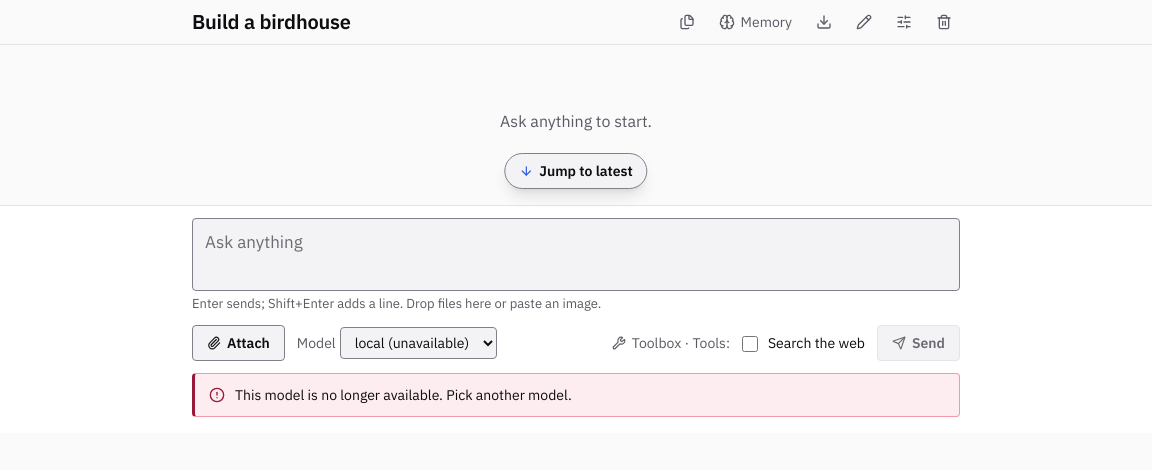
it: Jump to latest › floats over the thread, so showing it does not resize the pane, and takes the reader down
(page scrolled)
Step 1. Click the button "Jump to latest" → click(576, 171), box left=504, top=153, right=648, bottom=189
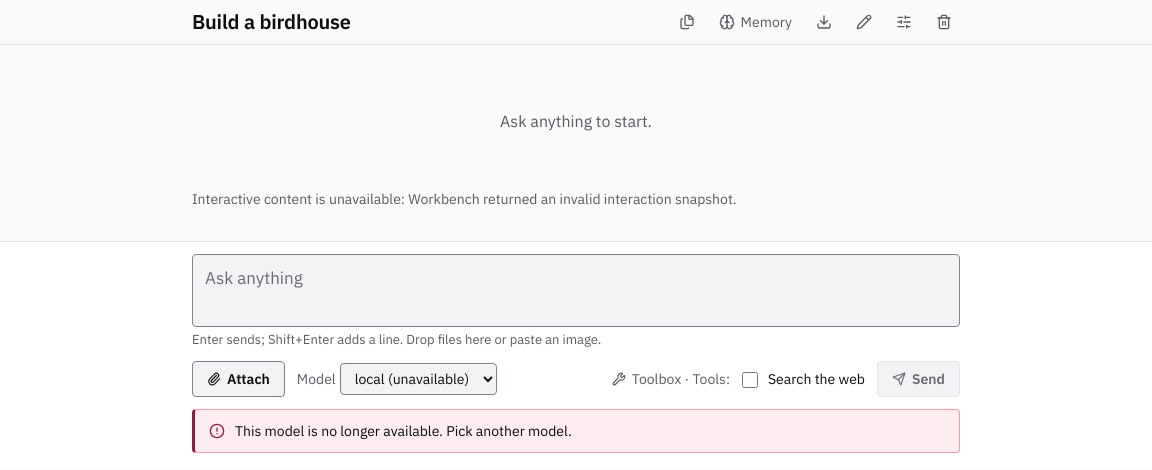
Expected: the button "Jump to latest" is gone
